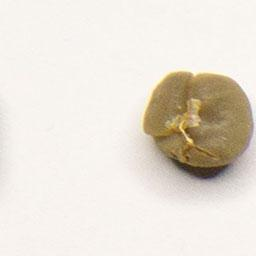peaberry: (138, 68, 256, 174)
